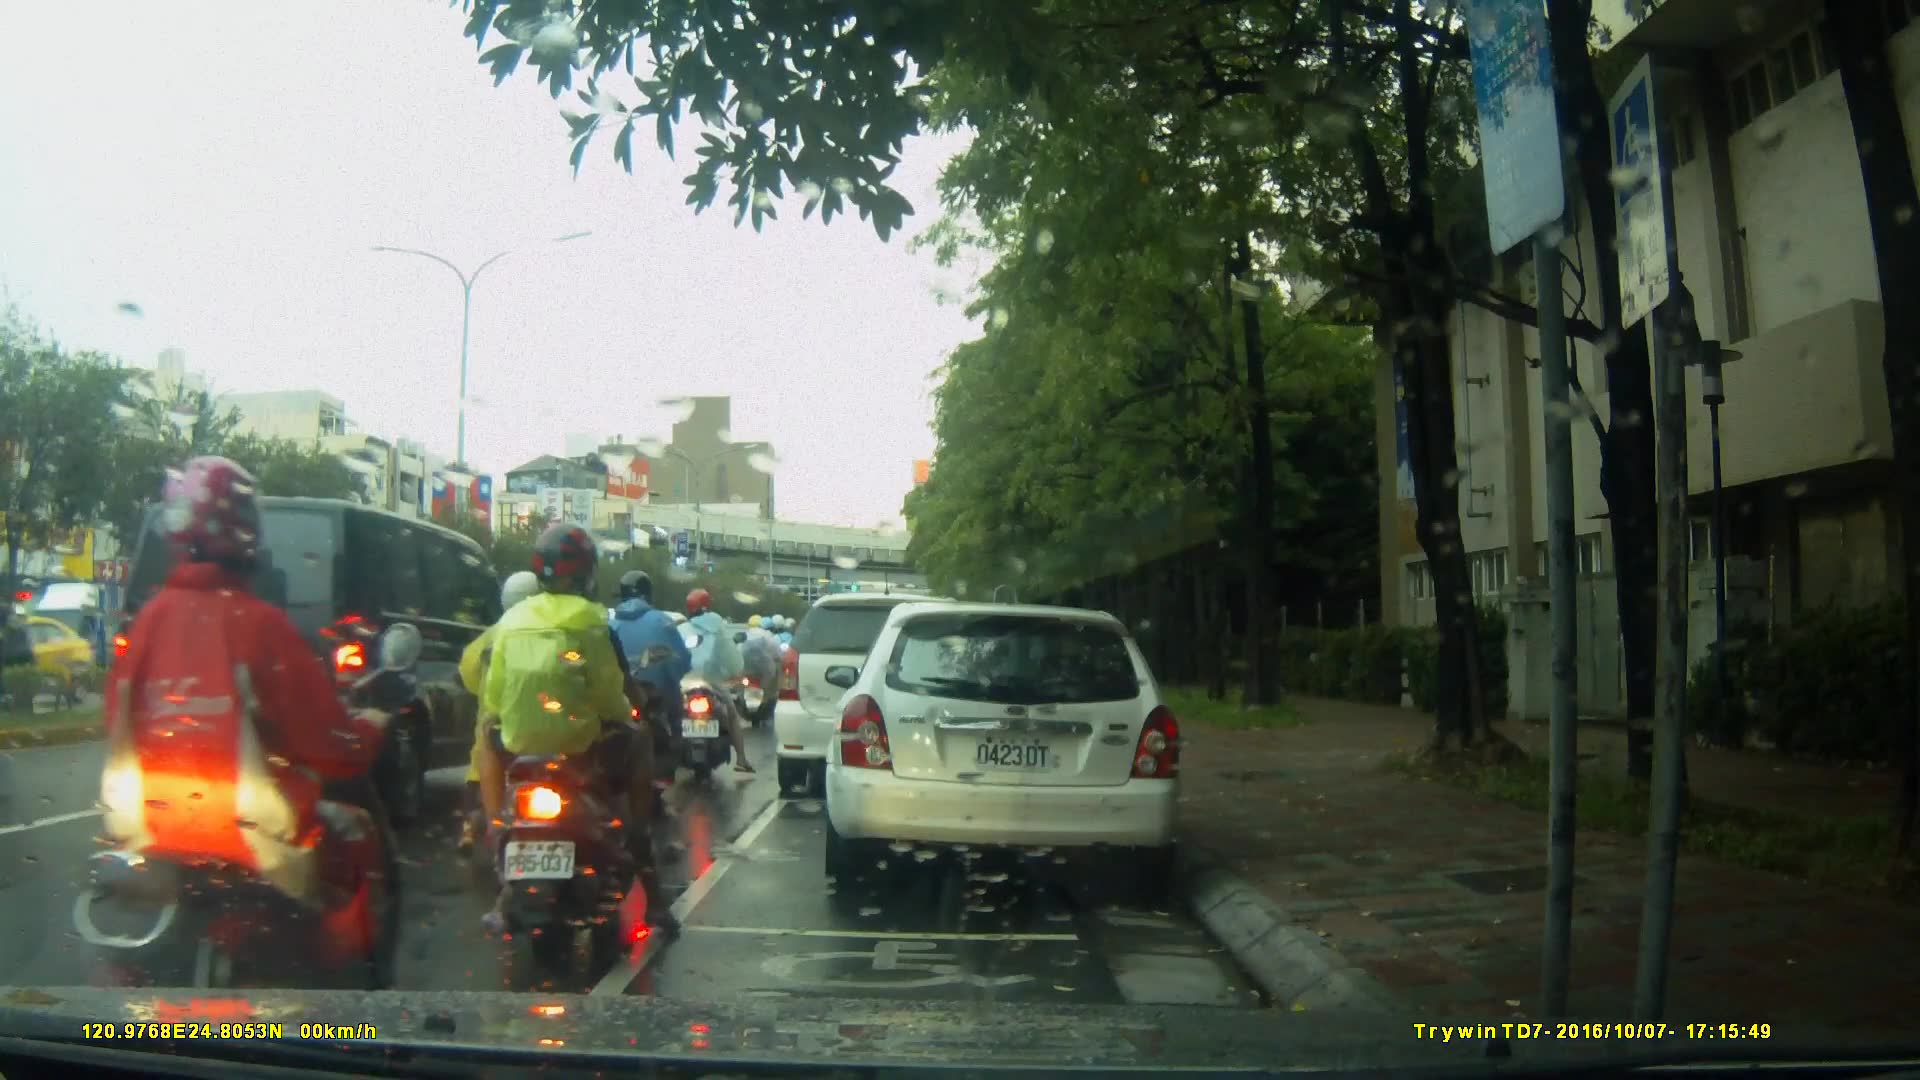rider: (63, 449, 402, 1062), (471, 523, 684, 948), (474, 575, 607, 886), (588, 570, 701, 817), (667, 589, 747, 781), (737, 612, 785, 734)
vehicle: (108, 492, 531, 831), (822, 604, 1188, 883), (774, 595, 995, 802), (477, 602, 708, 767), (20, 576, 199, 697)
